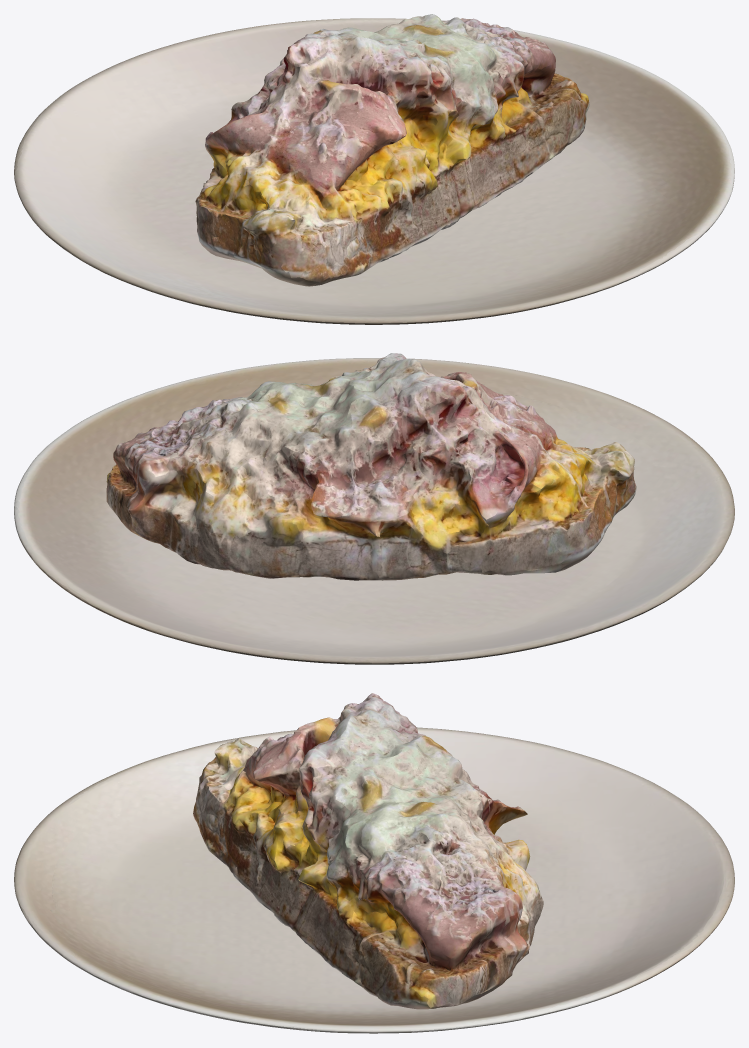
Rendered from bruschta.with.Mortadela.asli.001.glb.
3 renders of one model, top to bottom at view 1: azimuth 30°, elevation 25°; view 2: azimuth 150°, elevation 25°; view 3: azimuth 270°, elevation 25°, orthographic.
Parts seen in each view (by area): view 1: /Root/Scenes/Scene/Object_37/Object_41/Object_42/Submesh_0, /Root/Scenes/Scene/Object_37/Object_38/Submesh_0; view 2: /Root/Scenes/Scene/Object_37/Object_41/Object_42/Submesh_0, /Root/Scenes/Scene/Object_37/Object_38/Submesh_0; view 3: /Root/Scenes/Scene/Object_37/Object_41/Object_42/Submesh_0, /Root/Scenes/Scene/Object_37/Object_38/Submesh_0.
Boxes of the visible parts, left/top/right/bottom form: /Root/Scenes/Scene/Object_37/Object_41/Object_42/Submesh_0: left=14, top=18, right=734, bottom=324; /Root/Scenes/Scene/Object_37/Object_38/Submesh_0: left=195, top=14, right=589, bottom=286; /Root/Scenes/Scene/Object_37/Object_41/Object_42/Submesh_0: left=14, top=358, right=734, bottom=664; /Root/Scenes/Scene/Object_37/Object_38/Submesh_0: left=106, top=353, right=636, bottom=580; /Root/Scenes/Scene/Object_37/Object_41/Object_42/Submesh_0: left=14, top=727, right=734, bottom=1033; /Root/Scenes/Scene/Object_37/Object_38/Submesh_0: left=193, top=693, right=543, bottom=1009.
Size of the model in its own units: 0.2715 by 0.0749 by 0.2715.
Materials: 2 (2 with a texture image).
